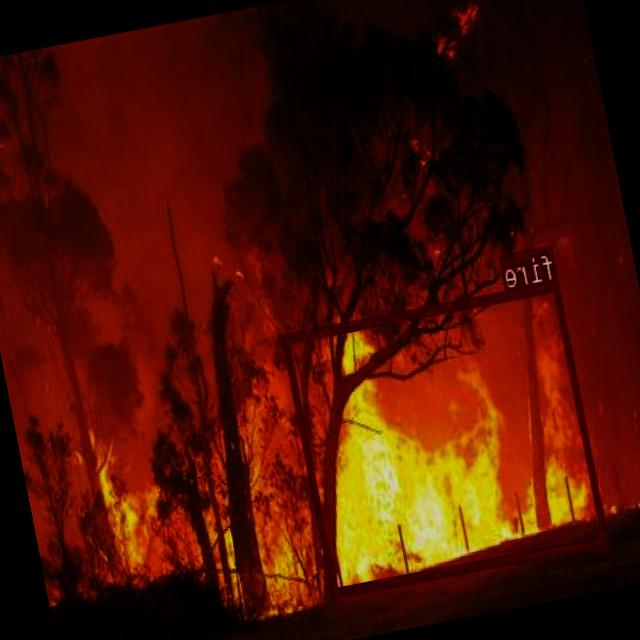fire: (283, 279, 610, 596)
